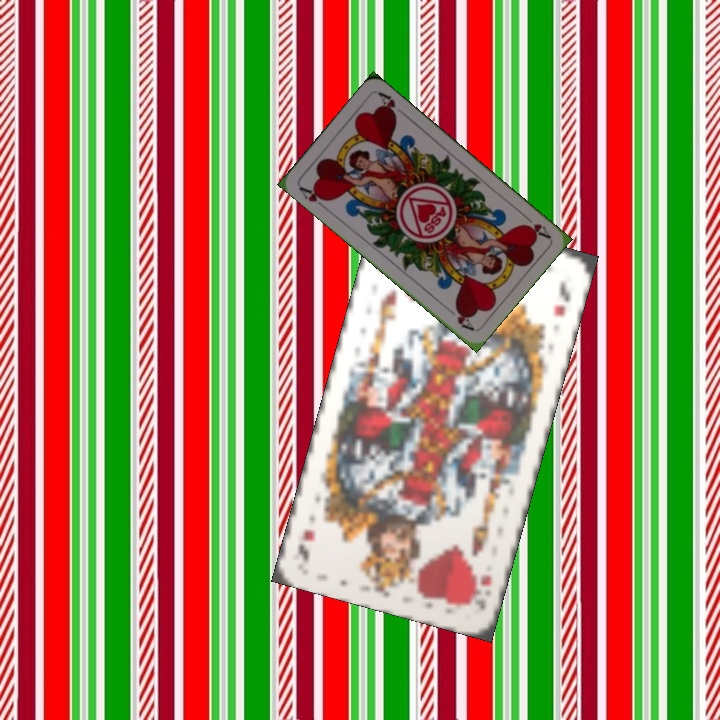HA: (518, 210, 553, 241), (295, 182, 331, 212)
HK: (465, 570, 495, 613)
